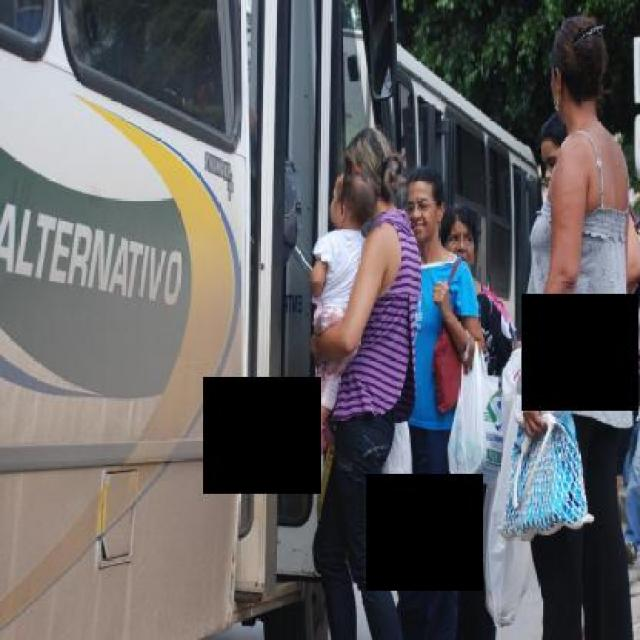plastic bag: (477, 392, 535, 626), (482, 335, 524, 563), (445, 325, 503, 483), (377, 420, 414, 512)
